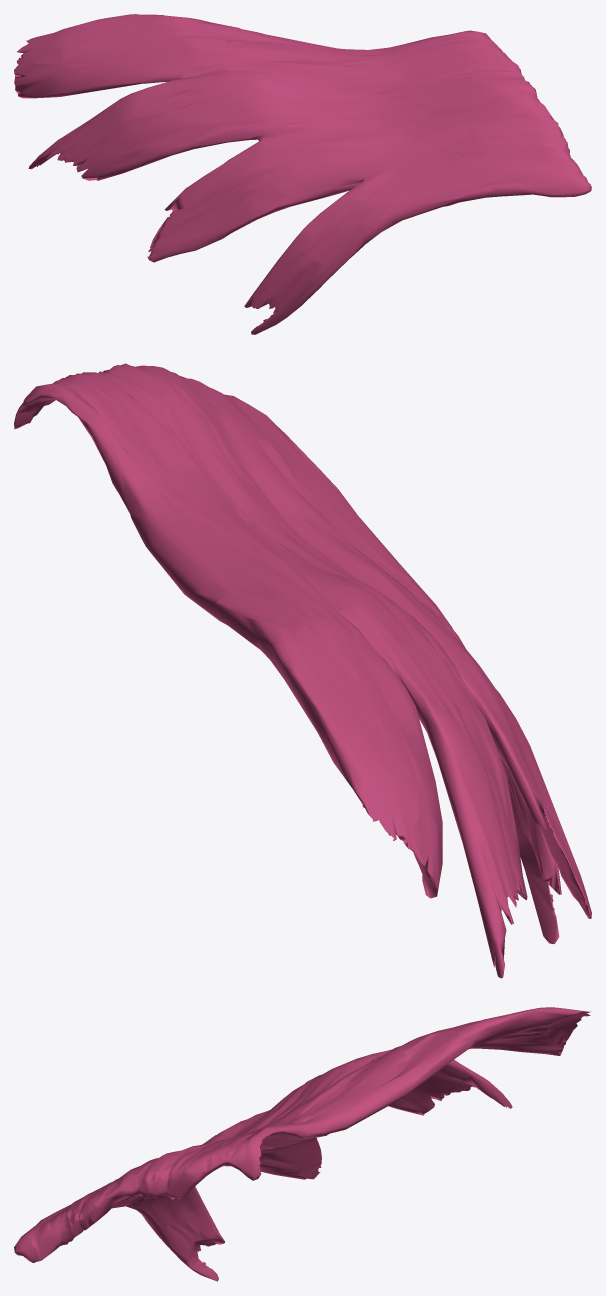
The picture shows the model from 3 angles, top to bottom: view 1: azimuth 30°, elevation 25°; view 2: azimuth 150°, elevation 25°; view 3: azimuth 270°, elevation 25°; orthographic projection. The views are drawn at different scales.
Visible parts, largest first — view 1: 右侧上后锯肌; view 2: 右侧上后锯肌; view 3: 右侧上后锯肌.
Part boxes in pixels (<box>): 右侧上后锯肌: <box>14,14,591,334</box>; 右侧上后锯肌: <box>14,363,591,978</box>; 右侧上后锯肌: <box>14,1007,591,1281</box>.
Size of the model in its own units: 0.1554 by 0.0978 by 0.1853.
